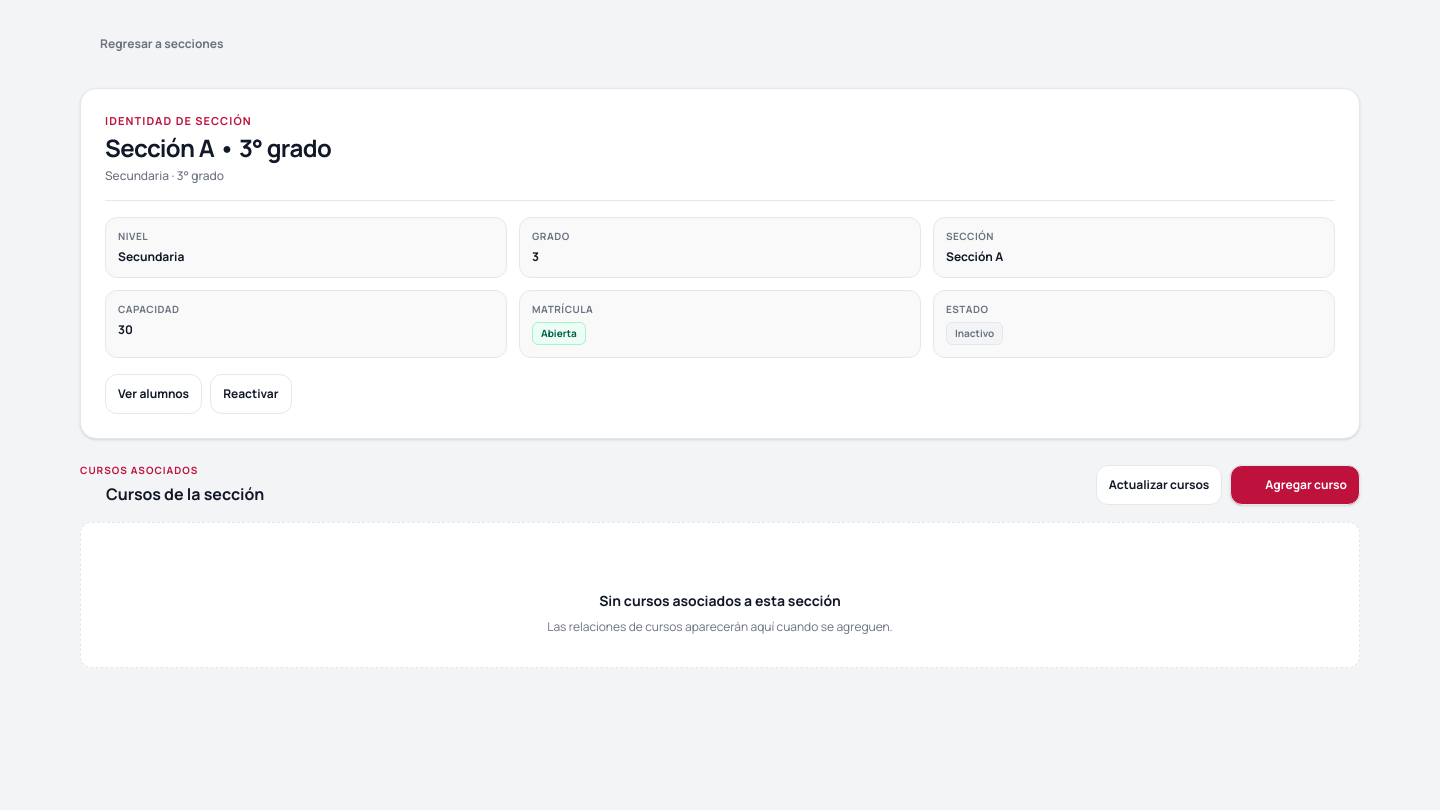
Test: reactivation sends active=true alone and shows a fixed error on failure
Click the button "Reactivar": (251, 394) left=210, top=374, right=292, bottom=414
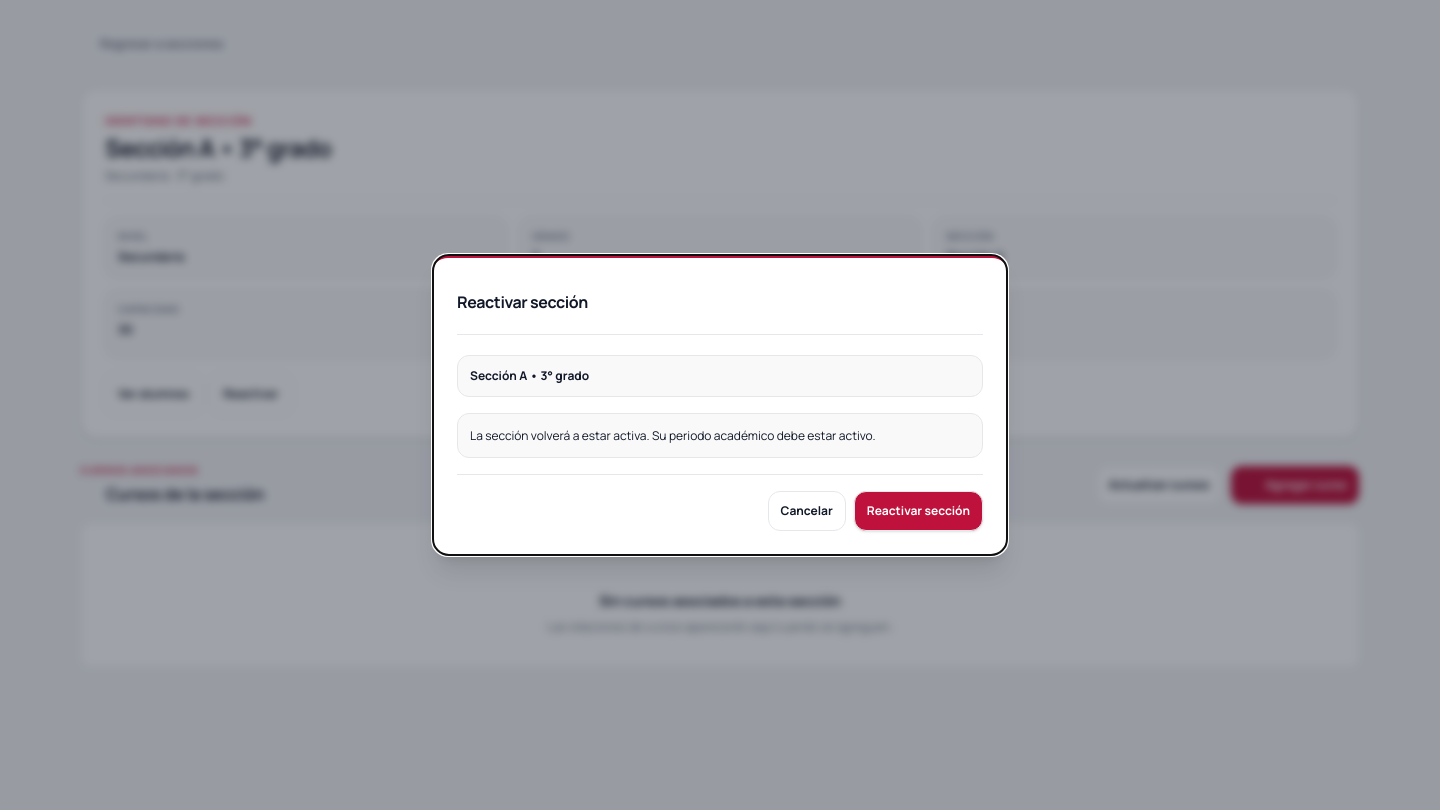
Submit the form, box left=457, top=355, right=983, bottom=531
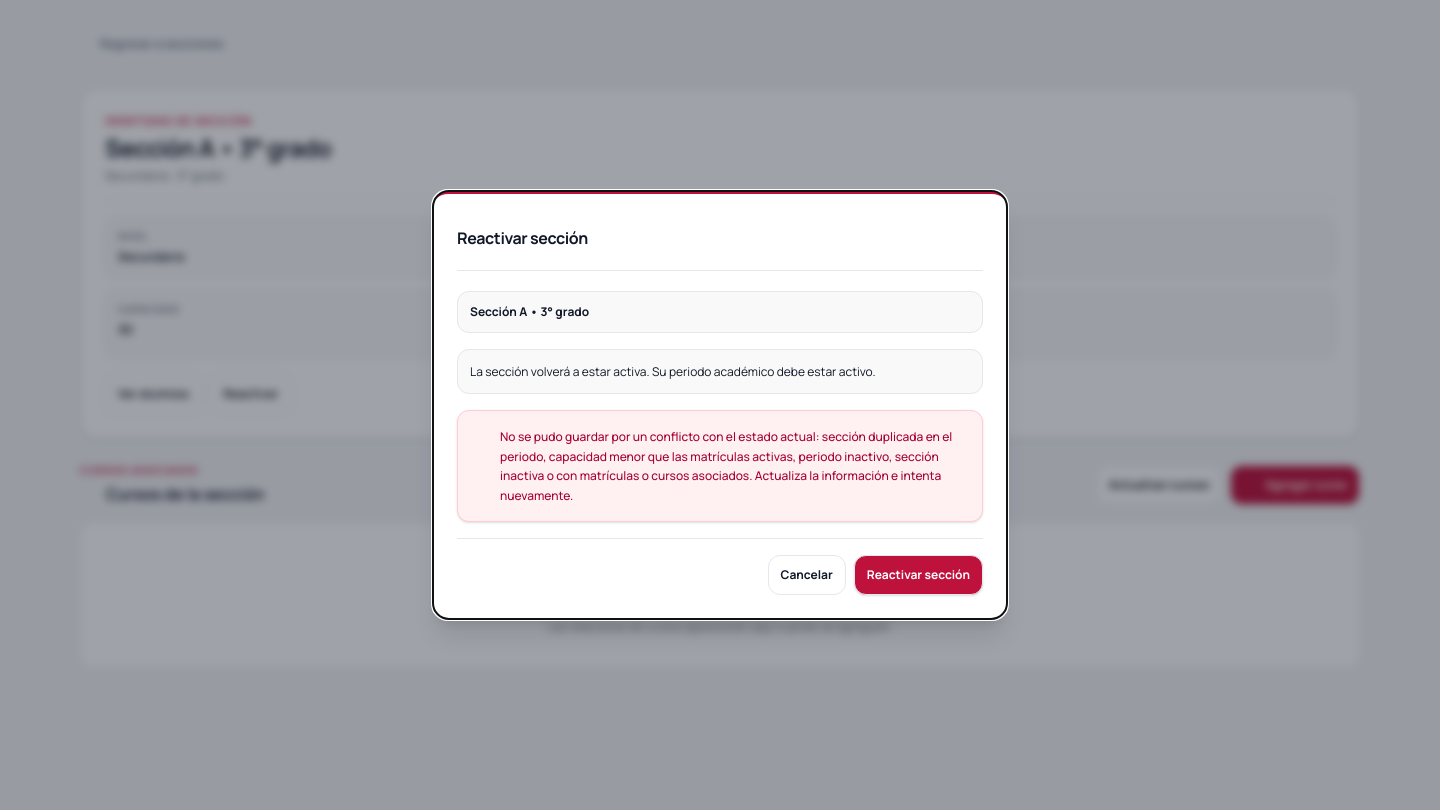
Now the text "conflicto con el estado actual" is shown, box left=500, top=428, right=955, bottom=504
Submit the form, box left=457, top=291, right=983, bottom=595
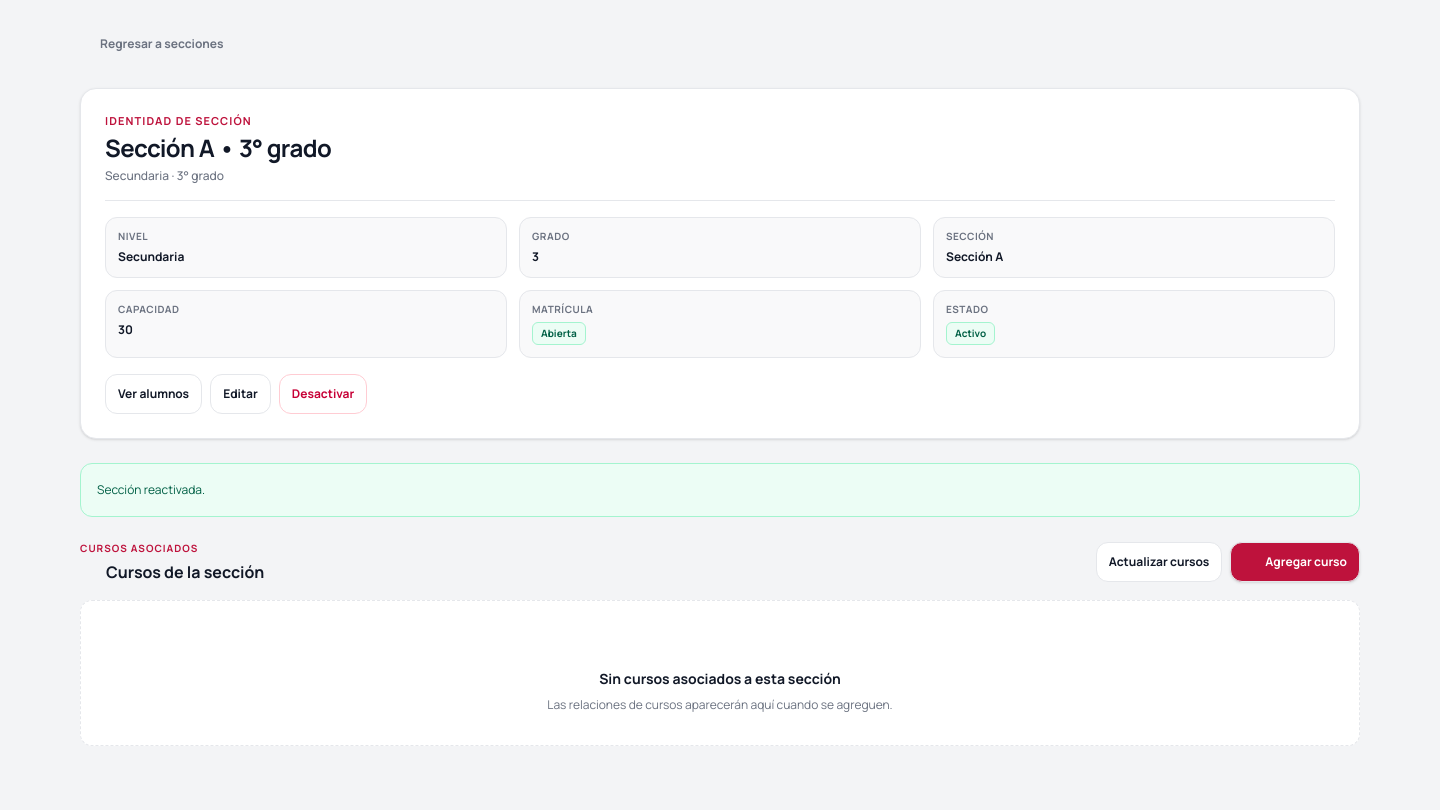
Now the text "Sección reactivada" is shown, box left=97, top=482, right=205, bottom=498
Now the button "Desactivar" is shown, box left=279, top=374, right=367, bottom=414
